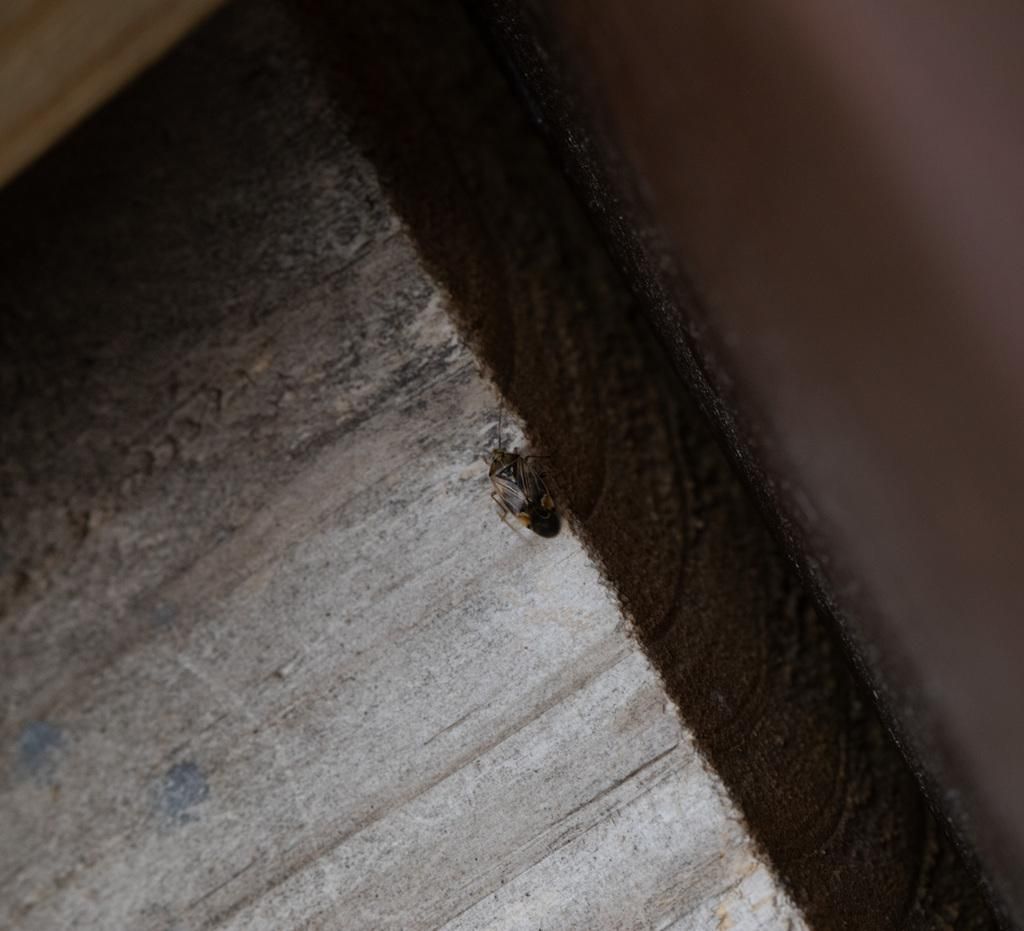plant_bugs: (429, 385, 595, 580)
